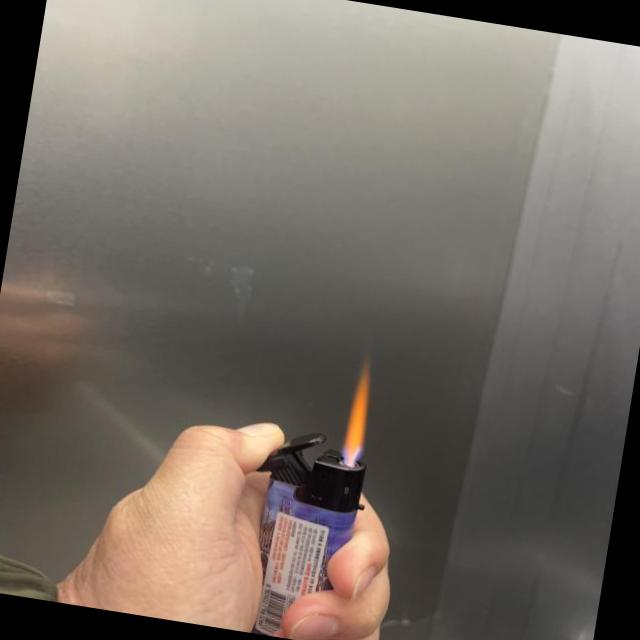Fire: (338, 359, 378, 466)
